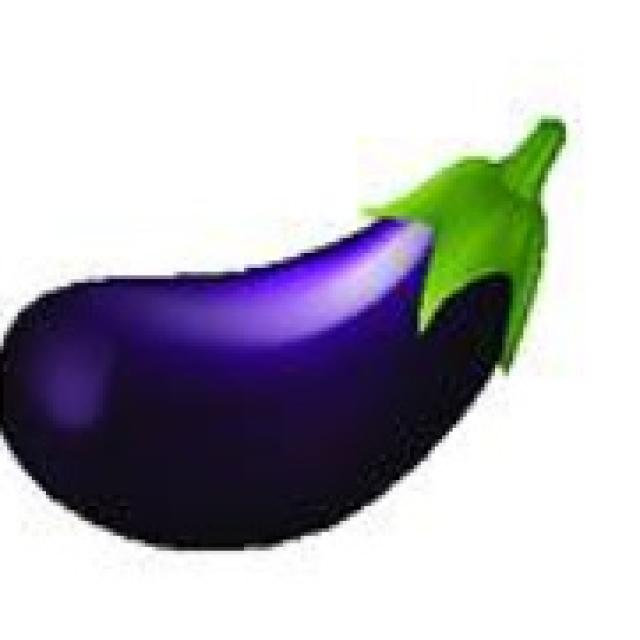eggplant: (0, 156, 541, 554)
